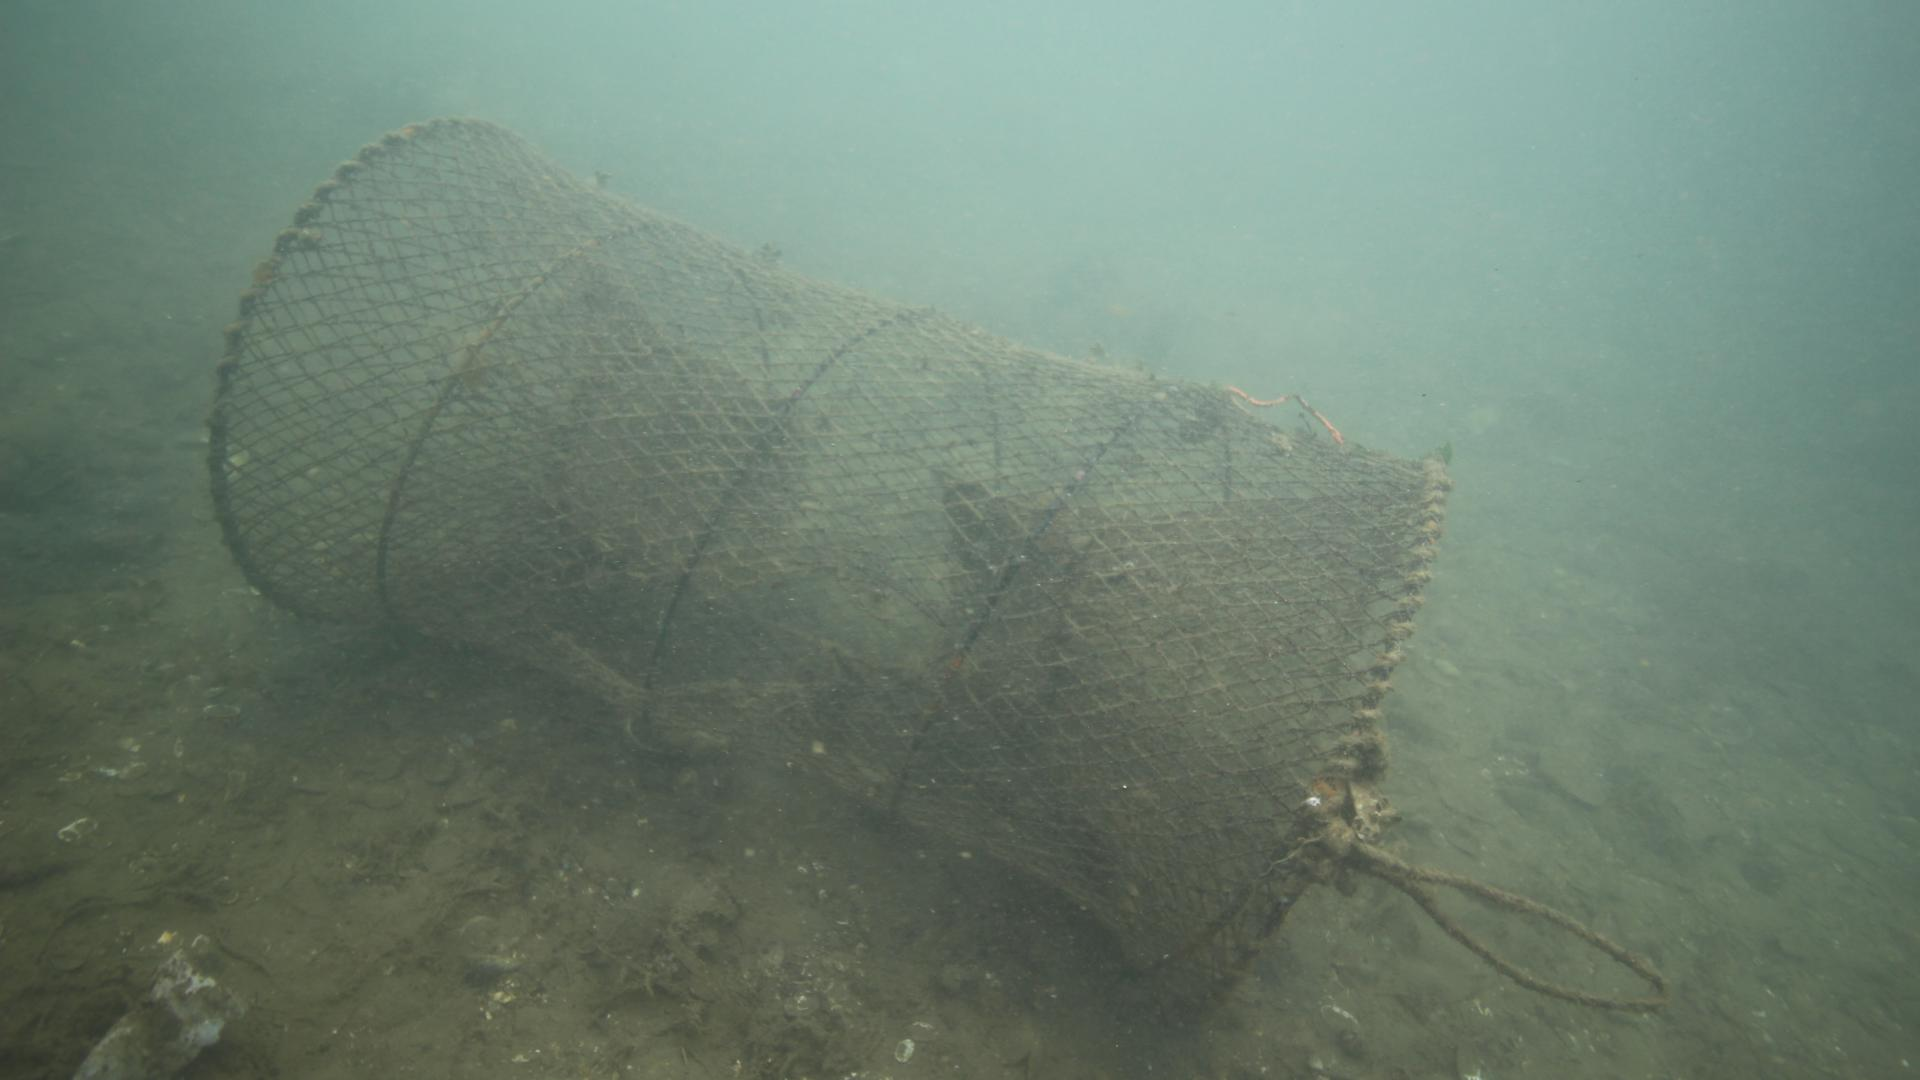bundle of ropes: (1332, 818, 1665, 1015)
spring fish trap: (203, 117, 1455, 1025)
